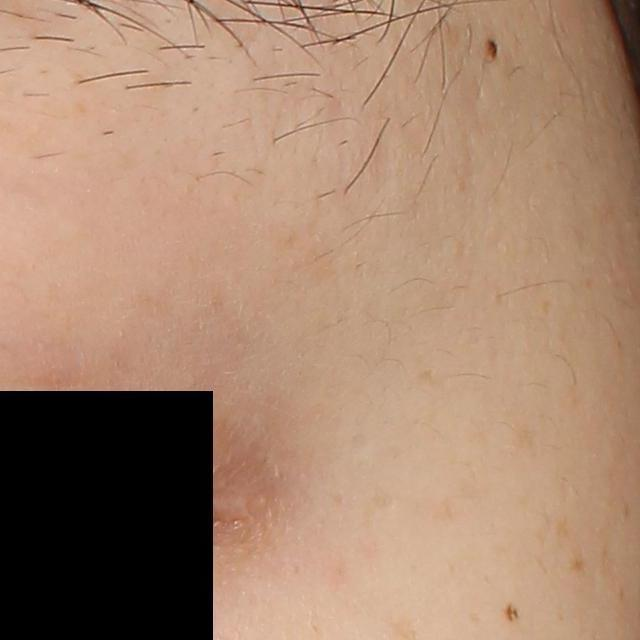melasma: (430, 497, 456, 519), (570, 546, 589, 576), (555, 517, 571, 540)
nevus: (483, 36, 502, 64), (502, 601, 525, 624)
